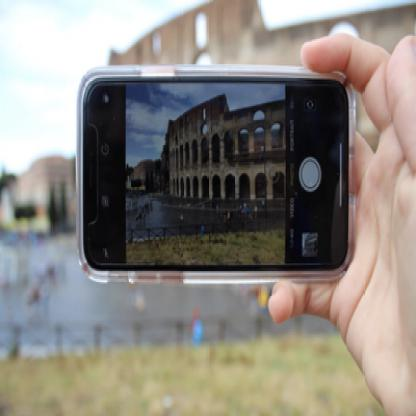cell-phone: (72, 58, 362, 290)
